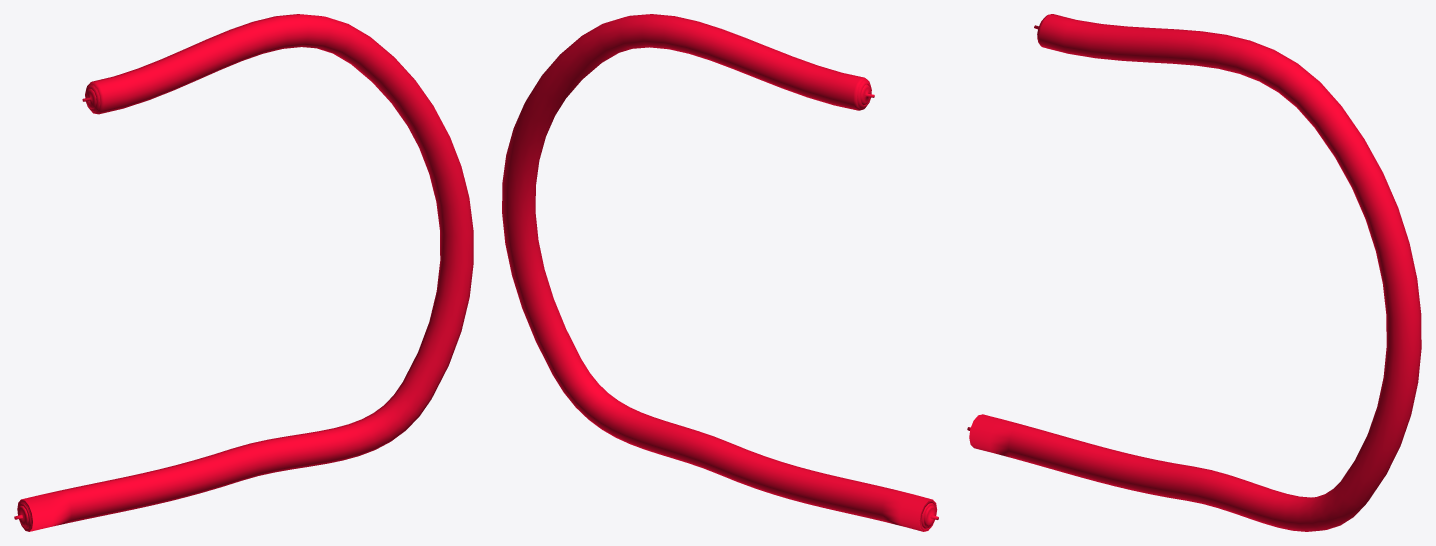
Rendered from RED WIRE.fbx.
The picture shows the model from 3 angles, left to right: view 1: azimuth 30°, elevation 25°; view 2: azimuth 150°, elevation 25°; view 3: azimuth 330°, elevation 25°; orthographic projection. The views are drawn at different scales.
Parts seen in each view (by area): view 1: BézierCurve; view 2: BézierCurve; view 3: BézierCurve.
Part boxes in pixels (x1=…): BézierCurve: x1=14, y1=14, x2=473, y2=531; BézierCurve: x1=502, y1=14, x2=938, y2=531; BézierCurve: x1=967, y1=14, x2=1421, y2=531.
Size of the model in its own units: 458 by 446 by 60.21.
